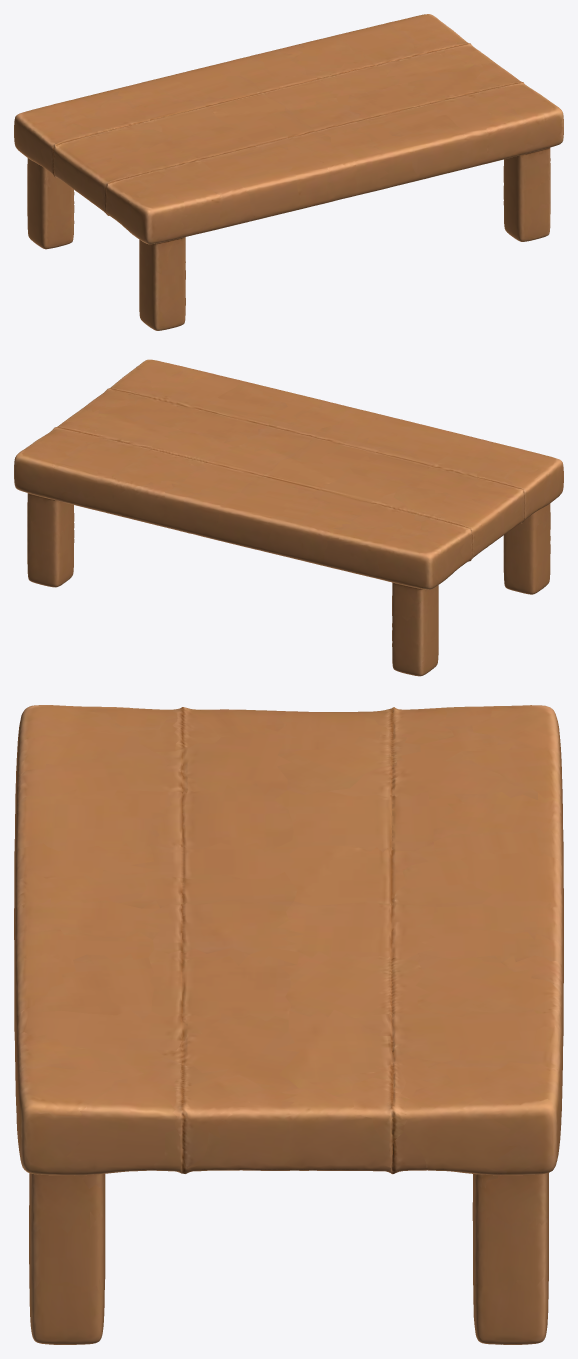
The model's file is table.glb.
3 views of the same model, one above another, from view 1: azimuth 30°, elevation 25°; view 2: azimuth 150°, elevation 25°; view 3: azimuth 270°, elevation 25° (orthographic). The views are drawn at different scales.
Parts seen in each view (by area): view 1: mesh_0; view 2: mesh_0; view 3: mesh_0.
Part boxes in pixels (bbox=[...]): mesh_0: bbox=[14, 14, 563, 330]; mesh_0: bbox=[14, 359, 563, 676]; mesh_0: bbox=[14, 705, 563, 1344].
Size of the model in its own units: 1.9 by 0.5537 by 1.09.
1 material, 1 textured.
